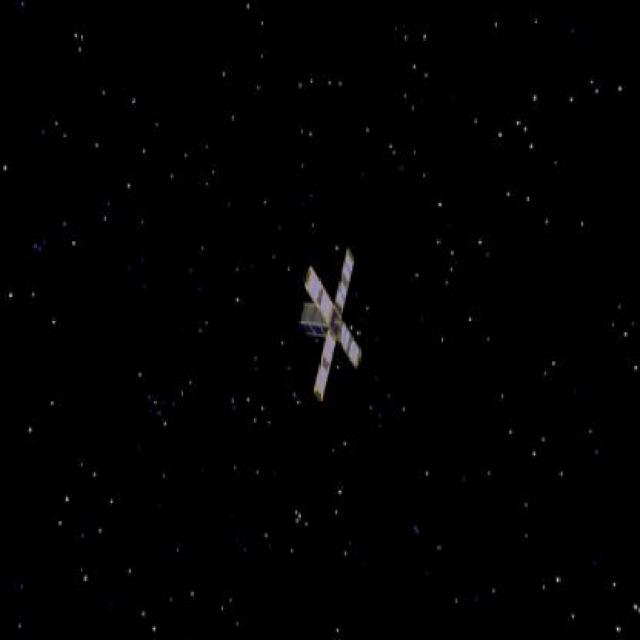satellite: (294, 244, 371, 398)
